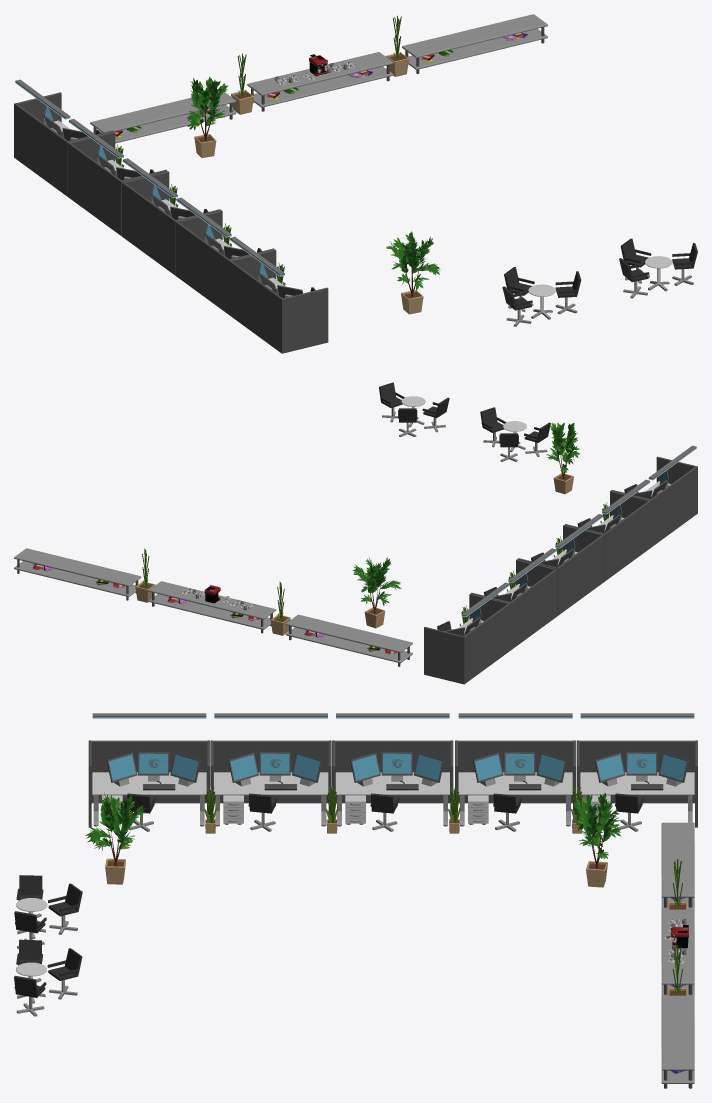
Rendered from d-roomcomp-t-itdepartment-in.glb.
3 renders of one model, top to bottom at view 1: azimuth 30°, elevation 25°; view 2: azimuth 150°, elevation 25°; view 3: azimuth 270°, elevation 25°, orthographic. The views are drawn at different scales.
Parts seen in each view (by area): view 1: desk.006, desk.003, desk.004, desk.002, desk.005, drawer-flat.002, drawer-flat.001, drawer-flat.005, table_chair.003, table_chair.002, plantBushyFernyBig.002, plantBushyFernyBig.003 (+3 smaller); view 2: desk.002, desk.004, desk.005, desk.006, desk.003, drawer-flat.005, drawer-flat.002, drawer-flat.001, table_chair.003, table_chair.002, plantBushyFernyBig.003, plantBushyFernyBig.002 (+3 smaller); view 3: desk.004, desk.005, desk.003, desk.006, desk.002, drawer-flat.002, drawer-flat.005, table_chair.003, table_chair.002, plantBushyFernyBig.002, plantBushyFernyBig.003, drawer-flat.001 (+1 smaller).
Boxes of the visible parts, x1=… form: desk.006: x1=228, y1=236, x2=328, y2=353; desk.003: x1=67, y1=119, x2=166, y2=235; desk.004: x1=121, y1=158, x2=220, y2=274; desk.002: x1=14, y1=79, x2=113, y2=196; desk.005: x1=175, y1=197, x2=274, y2=314; drawer-flat.002: x1=402, y1=14, x2=547, y2=73; drawer-flat.001: x1=247, y1=52, x2=393, y2=111; drawer-flat.005: x1=90, y1=92, x2=236, y2=143; table_chair.003: x1=619, y1=238, x2=697, y2=298; table_chair.002: x1=502, y1=267, x2=581, y2=326; plantBushyFernyBig.002: x1=386, y1=231, x2=440, y2=314; plantBushyFernyBig.003: x1=186, y1=77, x2=228, y2=157; desk.002: x1=424, y1=582, x2=510, y2=684; desk.004: x1=517, y1=514, x2=604, y2=615; desk.005: x1=564, y1=479, x2=651, y2=581; desk.006: x1=611, y1=445, x2=697, y2=547; desk.003: x1=471, y1=548, x2=557, y2=649; drawer-flat.005: x1=285, y1=614, x2=412, y2=666; drawer-flat.002: x1=14, y1=548, x2=141, y2=600; drawer-flat.001: x1=148, y1=581, x2=275, y2=633; table_chair.003: x1=379, y1=382, x2=449, y2=436; table_chair.002: x1=480, y1=407, x2=550, y2=461; plantBushyFernyBig.003: x1=352, y1=557, x2=401, y2=628; plantBushyFernyBig.002: x1=546, y1=422, x2=579, y2=494; desk.004: x1=332, y1=713, x2=453, y2=831; desk.005: x1=210, y1=713, x2=331, y2=831; desk.003: x1=455, y1=713, x2=575, y2=831; desk.006: x1=88, y1=713, x2=209, y2=831; desk.002: x1=576, y1=713, x2=697, y2=831; drawer-flat.002: x1=661, y1=995, x2=694, y2=1088; drawer-flat.005: x1=661, y1=822, x2=694, y2=909; table_chair.003: x1=14, y1=939, x2=82, y2=1016; table_chair.002: x1=14, y1=875, x2=82, y2=948; plantBushyFernyBig.002: x1=85, y1=793, x2=146, y2=884; plantBushyFernyBig.003: x1=573, y1=793, x2=621, y2=887; drawer-flat.001: x1=661, y1=910, x2=694, y2=995.
Size of the model in its own units: 21.91 by 3.17 by 22.01.
5 materials, 4 textured.
